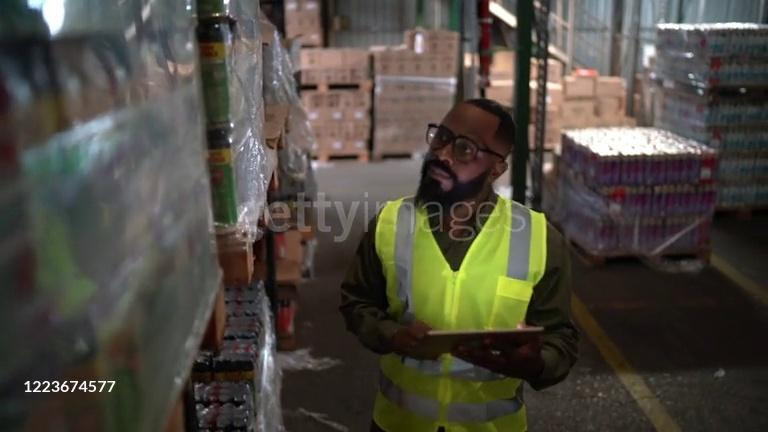person: (337, 95, 582, 432)
